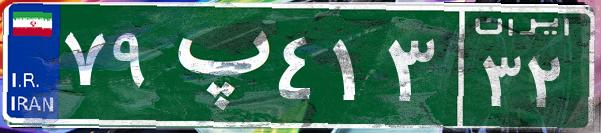1: (330, 28, 385, 110)
2: (525, 38, 570, 115)
3: (385, 28, 445, 110), (475, 38, 525, 113)
4: (273, 28, 330, 110)
7: (57, 26, 110, 107)
9: (110, 28, 158, 105)
پ: (158, 15, 273, 115)
